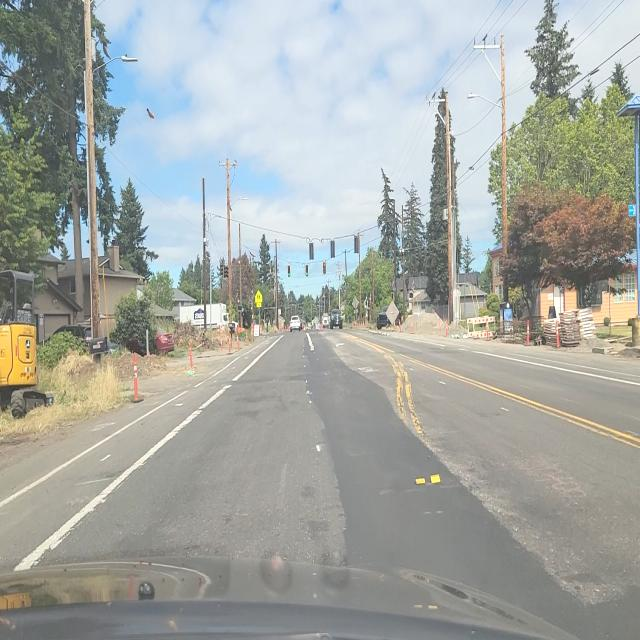car: (330, 309, 342, 329), (290, 317, 301, 331)
crosswalk-sign: (255, 290, 262, 308)
delineator: (132, 352, 144, 405), (187, 341, 196, 376), (235, 325, 240, 349), (526, 318, 530, 346), (556, 320, 560, 348), (228, 330, 232, 354), (245, 324, 249, 343), (250, 323, 254, 340), (220, 330, 223, 350), (445, 321, 449, 336), (410, 318, 414, 332), (439, 321, 442, 332)
